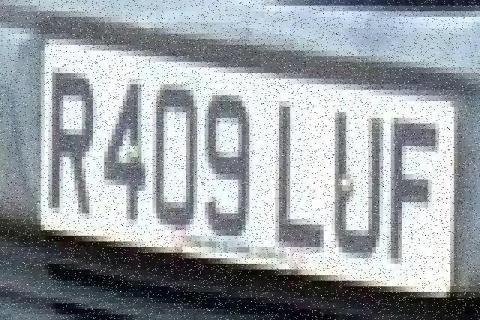LicensePlate: (37, 17, 461, 305)
